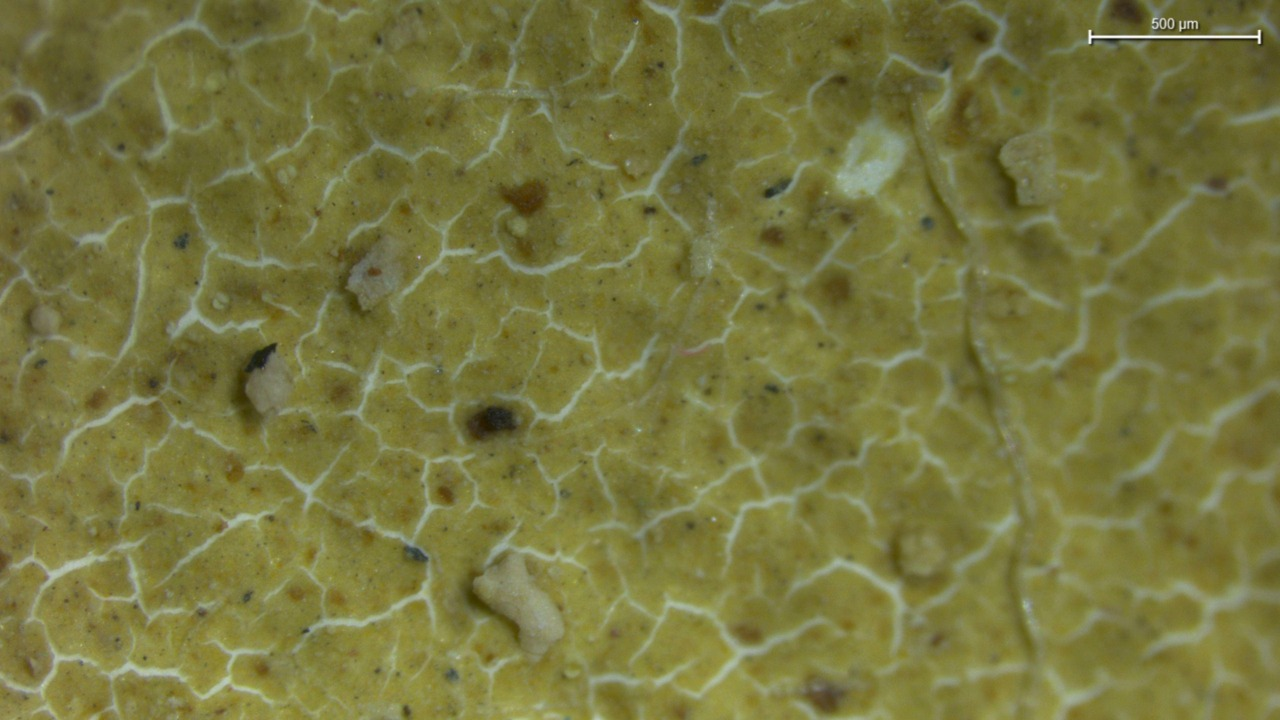microplastic_fragment: (473, 552, 564, 655), (998, 132, 1061, 206), (345, 236, 405, 311), (243, 343, 292, 416)
